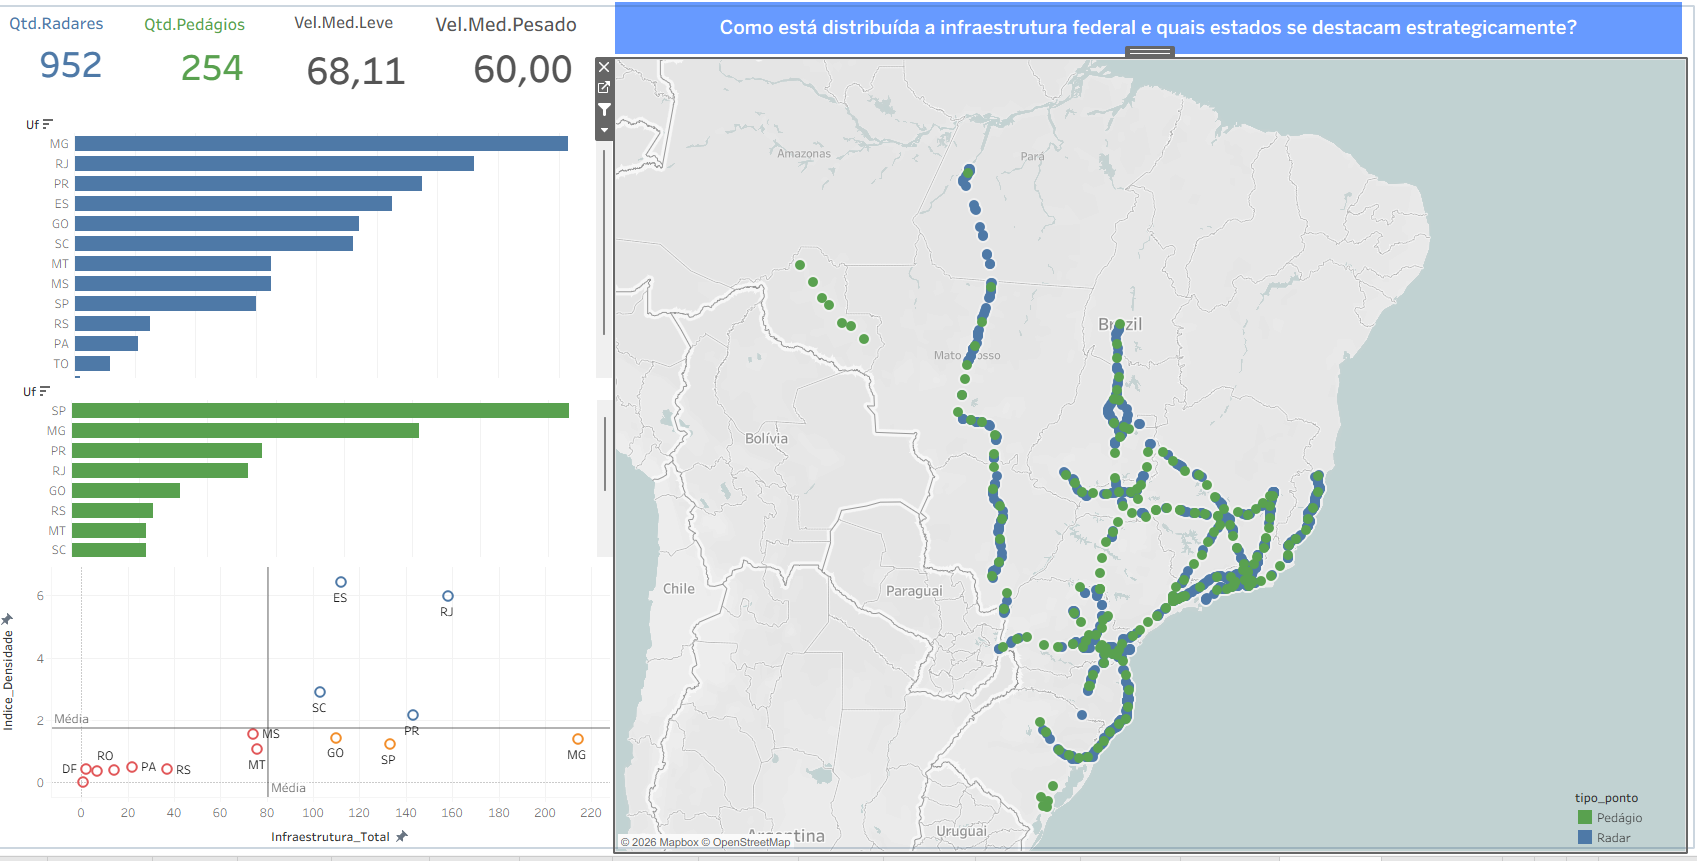

This screenshot's page, from the dashboard's own definition file:
{"tool":"tableau","page":{"name":"Visão Macro","canvas":[1000,1000],"units":"permille","ordinal":1},"visuals":[{"type":"text","box":[364.6,3.6,624.4,60.4]},{"type":"worksheet","title":"Vel.Med.Pesado","mark":"Automatic","box":[257.1,8.3,107.5,96]},{"type":"worksheet","title":"Vel.Med.Leve","mark":"Automatic","box":[174.4,9.5,84.8,113.7]},{"type":"worksheet","title":"Qtd.Radares","mark":"Automatic","box":[7.6,10.7,76.5,85.3]},{"type":"worksheet","title":"Qtd.Pedágios","mark":"Automatic","box":[86.8,11.8,83.4,88.9]},{"type":"worksheet","title":"Mapa","mark":"Automatic","rows":["latitude"],"cols":["longitude"],"box":[364.6,69.9,626.5,926.5]},{"type":"worksheet","title":"Rank.Radar.UF","mark":"Automatic","rows":["uf"],"cols":["Calculation_1022858803486723"],"box":[1.4,132.7,361.8,310.4]},{"type":"worksheet","title":"Perfil.Estrut.Uf","mark":"Automatic","rows":["Calculation_1022858826772485"],"cols":["Calculation_1022858817056772"],"box":[0,663.5,361.8,332.9]},{"type":"legend","title":"Mapa","param":"[federated.0oyeios0yhks7h146pw8a1eaj9na].[none:Calculation_1022858796228609:nk]","box":[926.3,923,61.3,68.7]}]}

Visuals, with their boxes on the dashboard's canvas, which has no fixed pixel size, in thousandths of its width and height (x1, y1, x2, y2). These are canvas units, not pixel positions in the 1697x861 screenshot, which may show the page scaled, cropped or inside an application window:
text: bbox=[365, 4, 989, 64]
"Vel.Med.Pesado" worksheet: bbox=[257, 8, 365, 104]
"Vel.Med.Leve" worksheet: bbox=[174, 10, 259, 123]
"Qtd.Radares" worksheet: bbox=[8, 11, 84, 96]
"Qtd.Pedágios" worksheet: bbox=[87, 12, 170, 101]
"Mapa" worksheet: bbox=[365, 70, 991, 996]
"Rank.Radar.UF" worksheet: bbox=[1, 133, 363, 443]
"Perfil.Estrut.Uf" worksheet: bbox=[0, 664, 362, 996]
"Mapa" legend: bbox=[926, 923, 988, 992]
